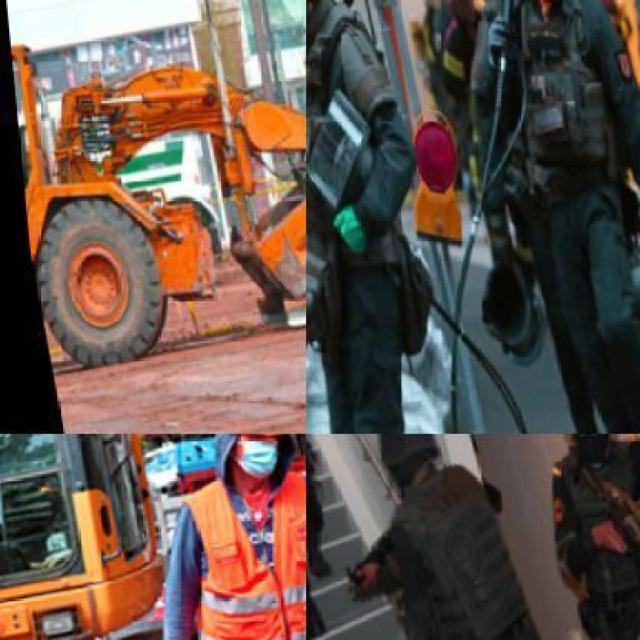Vest: (374, 466, 552, 639), (306, 41, 422, 252), (495, 0, 618, 192), (180, 474, 305, 638), (543, 443, 639, 639)
